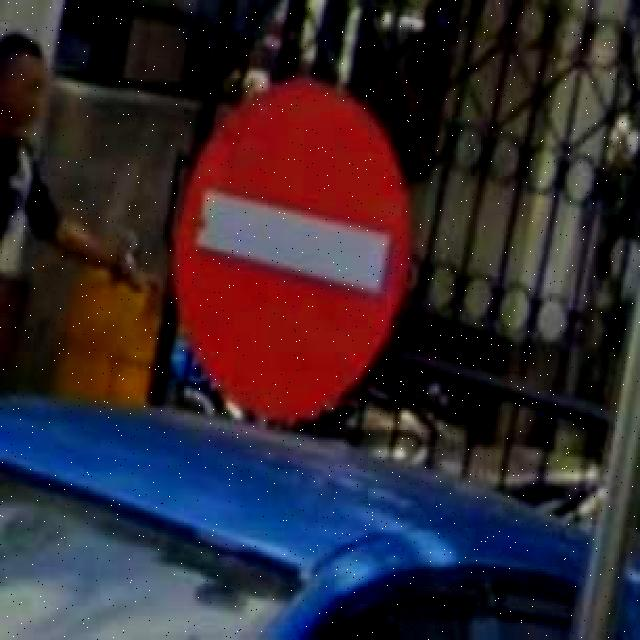Zakaz wjazdu: (174, 76, 408, 418)
